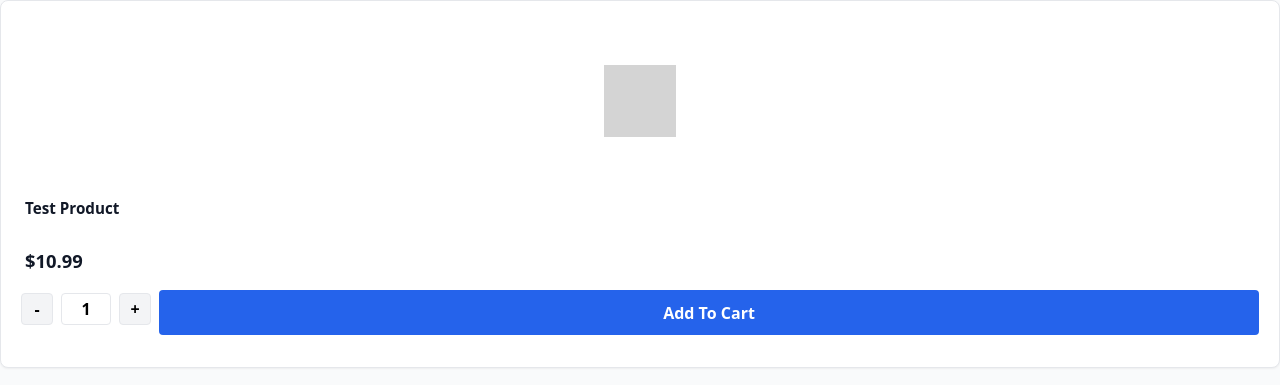
Test: ProductCard Component › disables the add to cart button when quantity is 0
This screenshot has width=1280, height=385.
Click the button named "decrease quantity": [37, 309] box [21, 293, 53, 325]
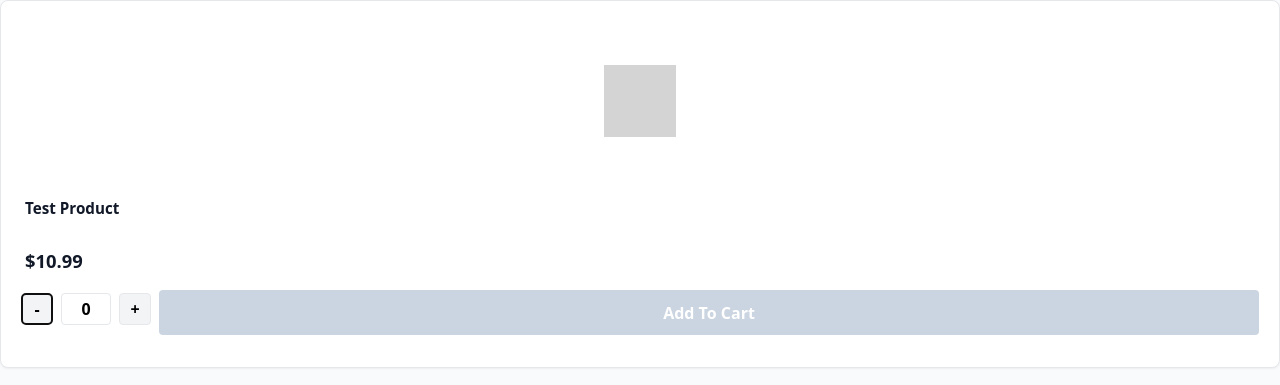
Now the number field holds "0", box [61, 293, 111, 325]
Now the button "Add To Cart" is disabled, box [159, 290, 1259, 335]
